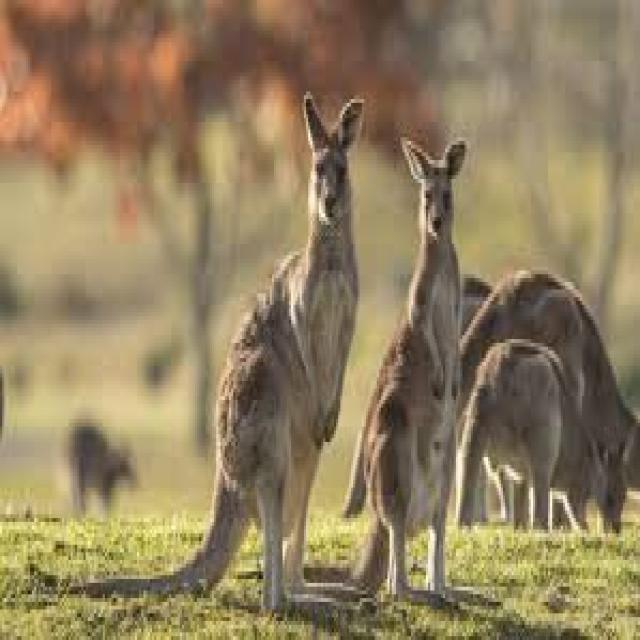Kangaroo: (23, 73, 361, 618), (341, 94, 466, 625), (453, 320, 638, 570)
